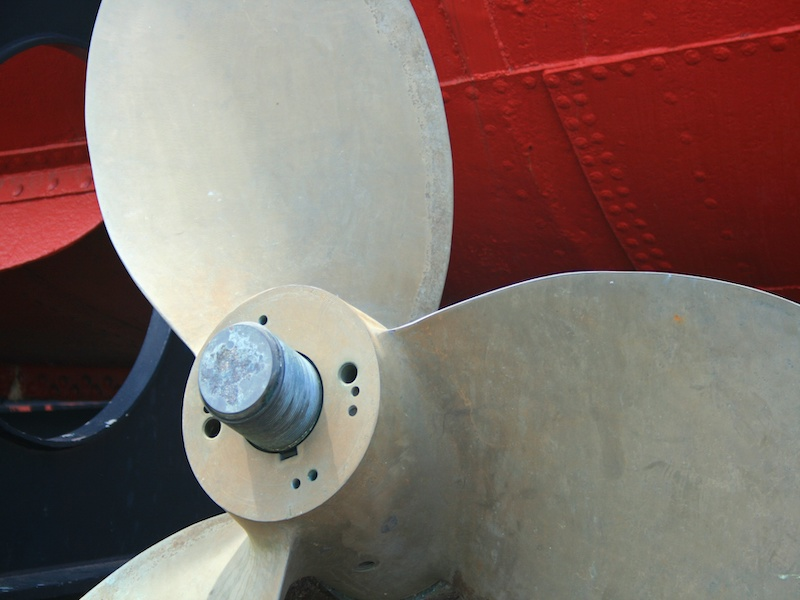hole: (199, 416, 225, 441), (336, 361, 360, 386), (305, 465, 321, 483), (344, 403, 361, 418), (349, 383, 363, 399), (256, 313, 270, 327), (289, 478, 304, 491)
